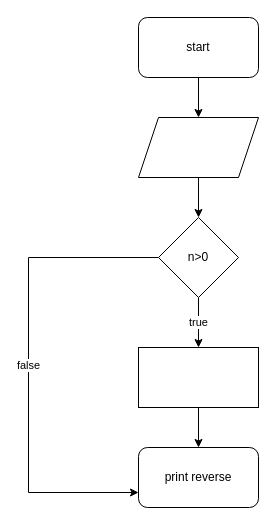
Some shapes in this 276 by 525 pixel diagram are drawn without their labels. The centre of each missing label's shape, as x and y in pixels:
"F=n%10 sum=sum*10+F n=n/10" goes at [198,377].
"n sum=0" goes at [198,147].
